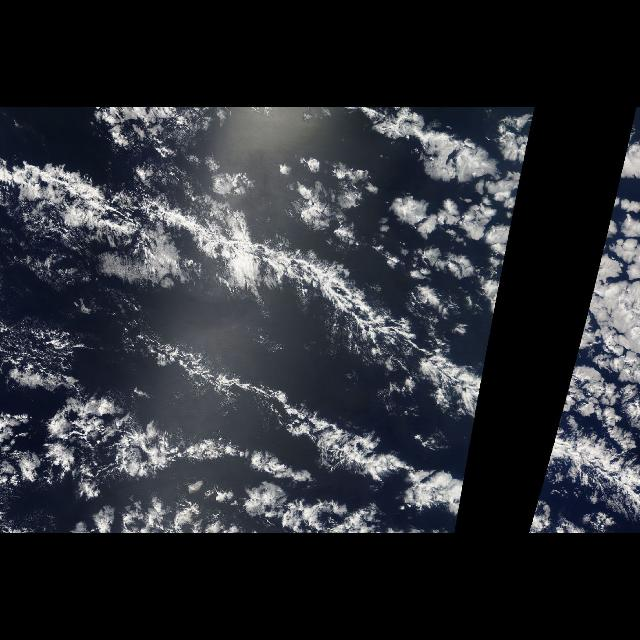Fish: (6, 162, 488, 514)
Flower: (281, 115, 534, 262), (604, 115, 640, 238)
